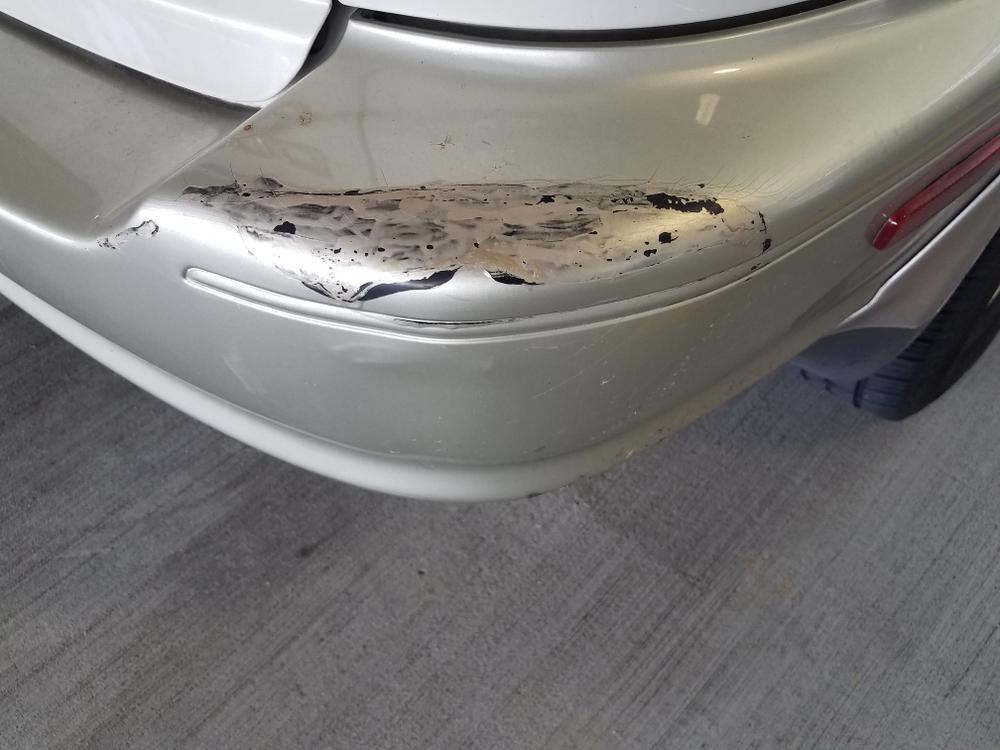scratch: (98, 174, 780, 306)
